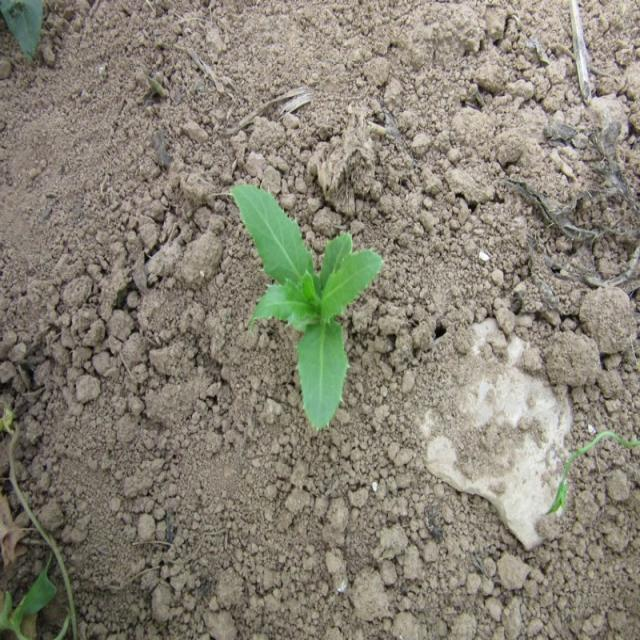field_thistle: (229, 165, 403, 427)
